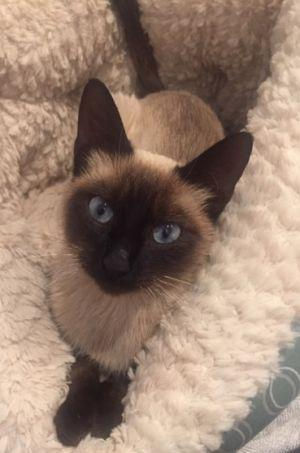siamese: (43, 76, 269, 308)
